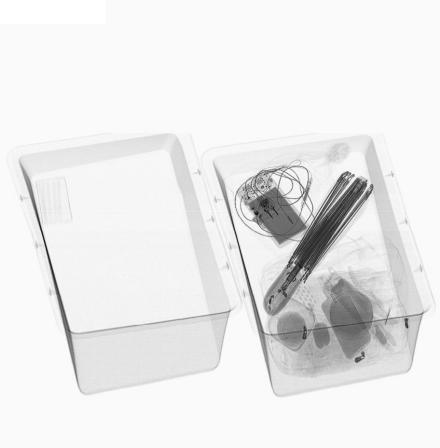Powerbank: (234, 170, 313, 249)
